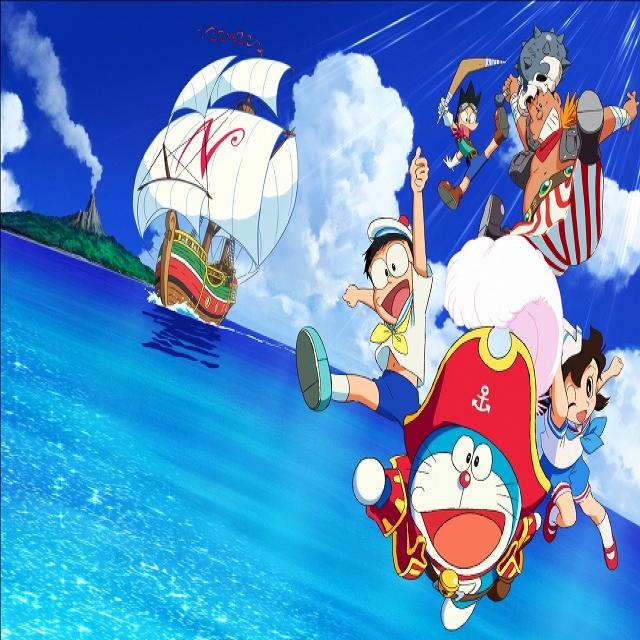doraemon: (399, 404, 545, 594)
jaian: (519, 80, 577, 158)
nobita: (352, 220, 439, 354)
shizuka: (551, 324, 621, 444)
suneo: (447, 85, 486, 145)
